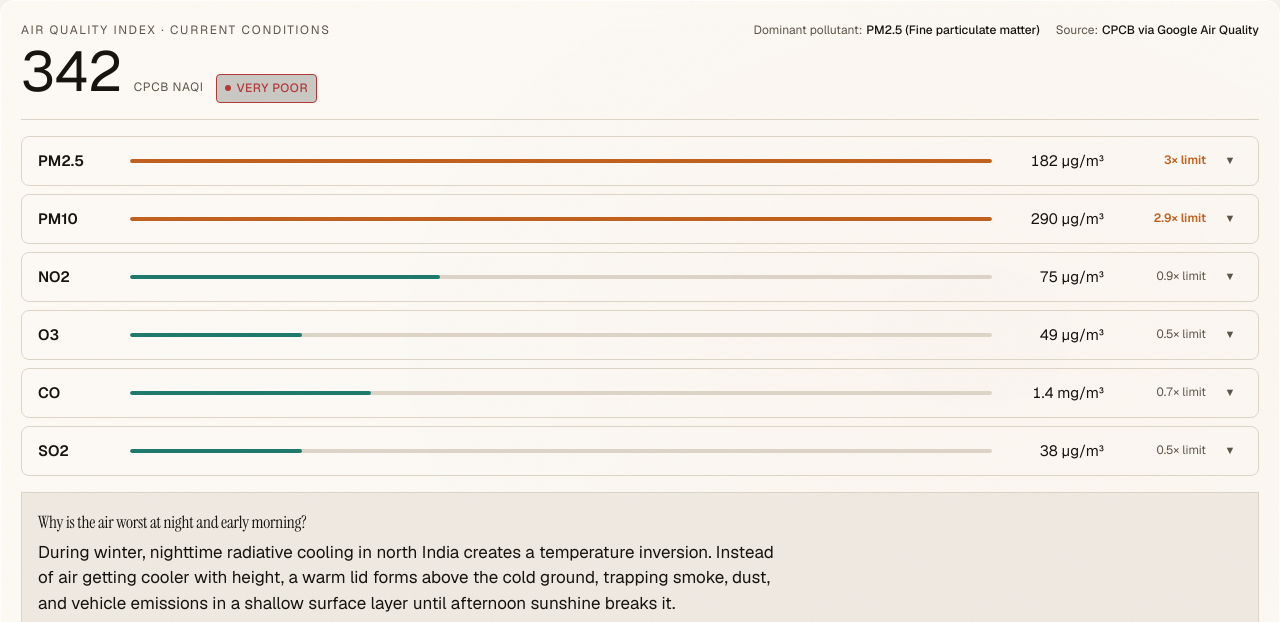
Test case: AirToday Component › expands and collapses pollutant health details on click
Check: the text "Deep lung penetration" is not shown
What coordinates should you click on to do the following:
click the button with aria-label "PM2.5:"
I would click on:
 (640, 161)
Its box is [22,137,1258,185].
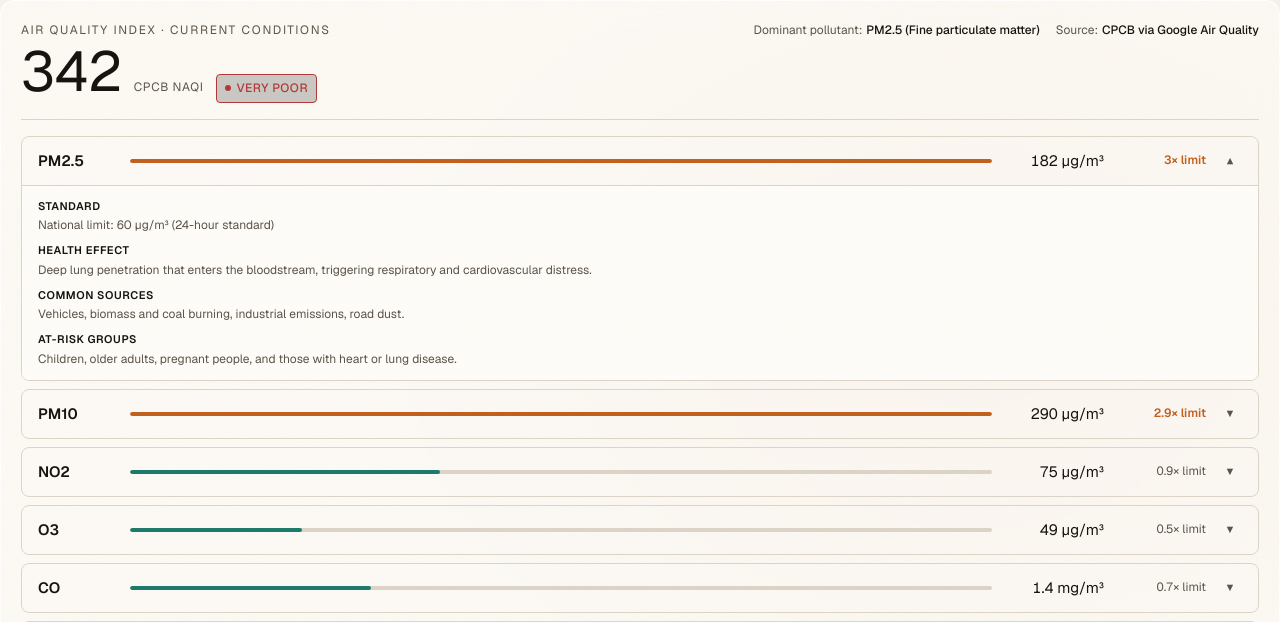
Check: the button with aria-label "PM2.5:" is expanded
Check: the text "Deep lung penetration" is shown, box [38,262,592,278]
Check: the text "National limit: 60 µg/m³ (24-hour standard)" is shown, box [38,217,274,233]
What coordinates should you click on to do the following:
click the button with aria-label "PM2.5:"
I would click on:
 (640, 161)
Its box is [22,137,1258,185].
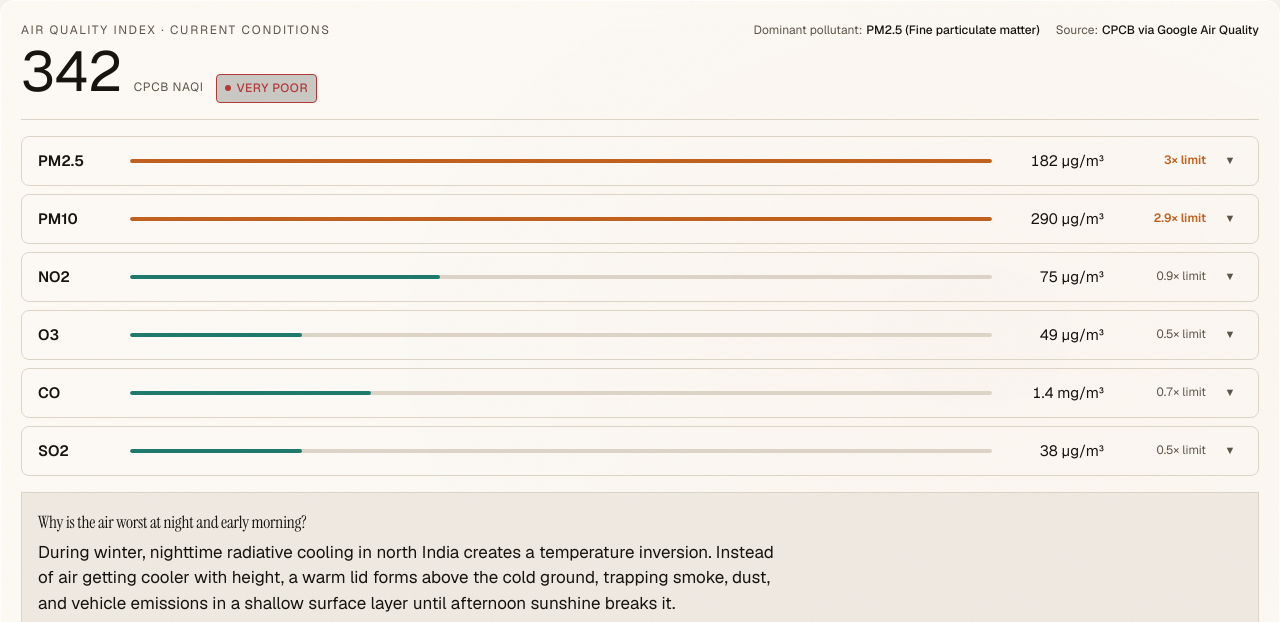
Check: the button with aria-label "PM2.5:" is collapsed, box [22,137,1258,185]
Check: the text "Deep lung penetration" is gone
